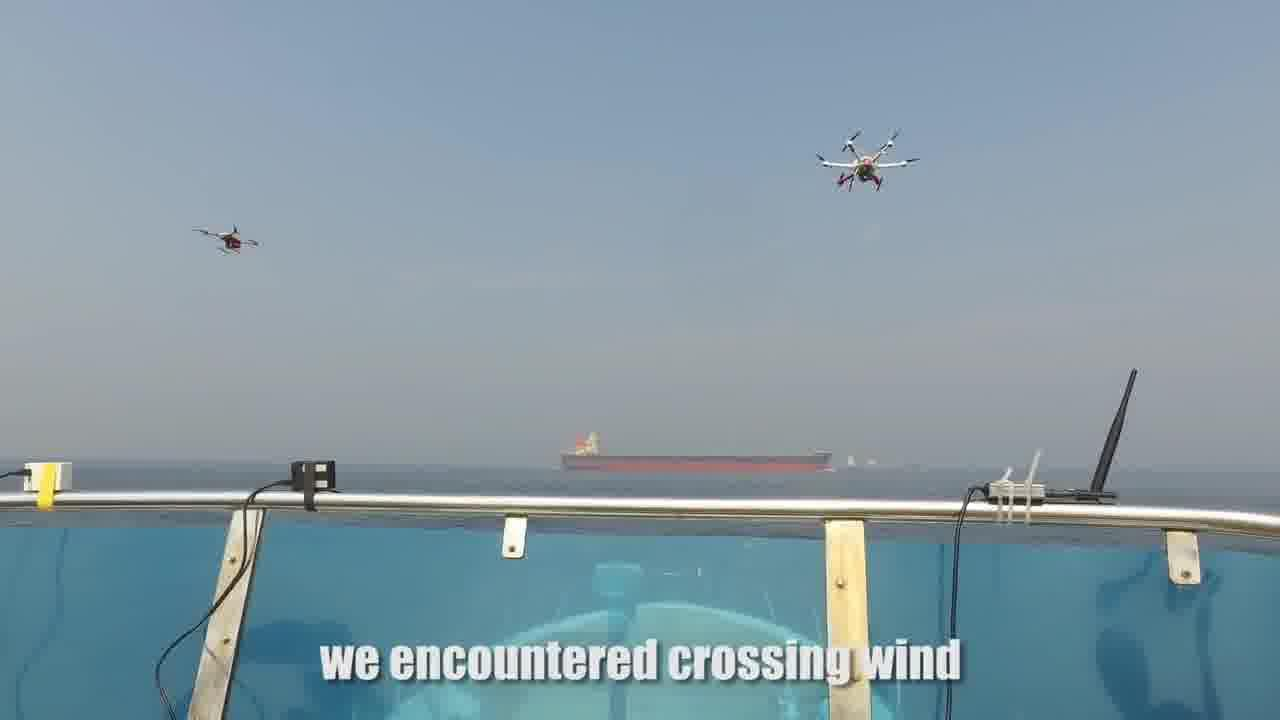drone: (197, 217, 259, 258)
